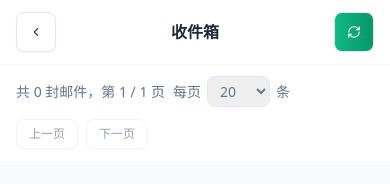
Scenario: MailListPage › 收信成功 Toast 包含圆形图标 + 标题"操作成功" + 描述"新增 N 封邮件"
This screenshot has width=390, height=184.
Click the button named "收取邮件".
click(354, 32)  # box x1=334 y1=12 x2=374 y2=52
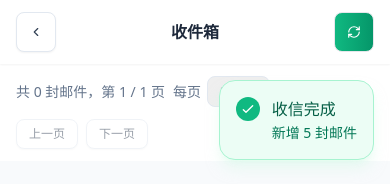
Expected: the text "收信完成" is shown, x1=272 y1=98 x2=336 y2=120
Expected: the text "新增 5 封邮件" is shown, x1=272 y1=123 x2=357 y2=143
